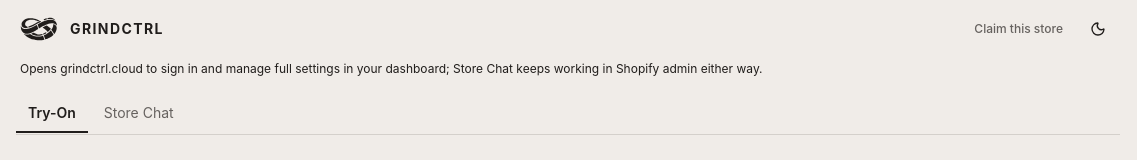
Test: ShopifyAppShell claim button › shows an error message when the claim attempt fails
The image size is (1137, 160).
Click the button "Claim this store".
click(1019, 29)  # box x1=965 y1=16 x2=1072 y2=42
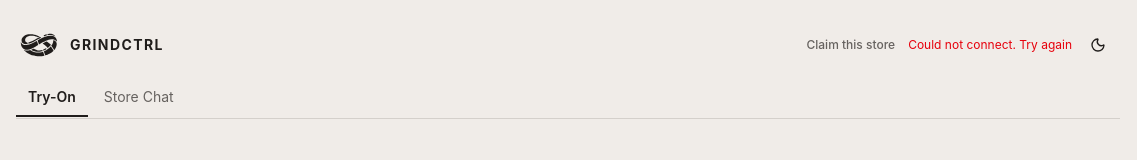
Result: the message shows "Could not connect" at x1=908 y1=37 x2=1072 y2=52
Result: the text "Opens grindctrl.cloud to sign in and manage full settings in your dashboard; Store Chat keeps working in Shopify admin e" is gone
